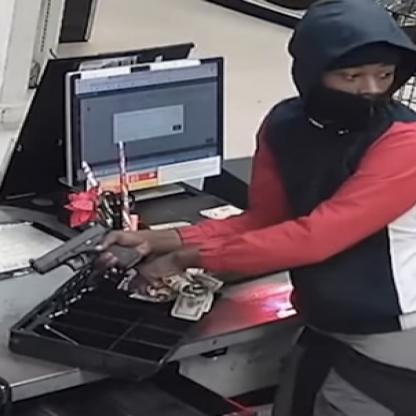criminal: (28, 0, 416, 416)
weapon: (28, 223, 142, 277)
